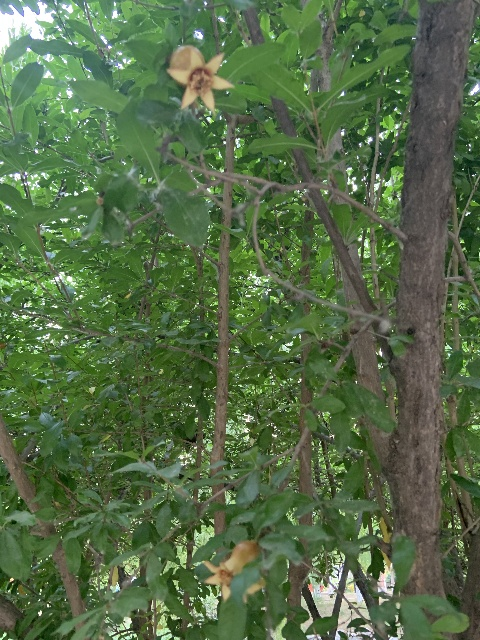early-fruit: (165, 45, 235, 112), (202, 540, 265, 603)
